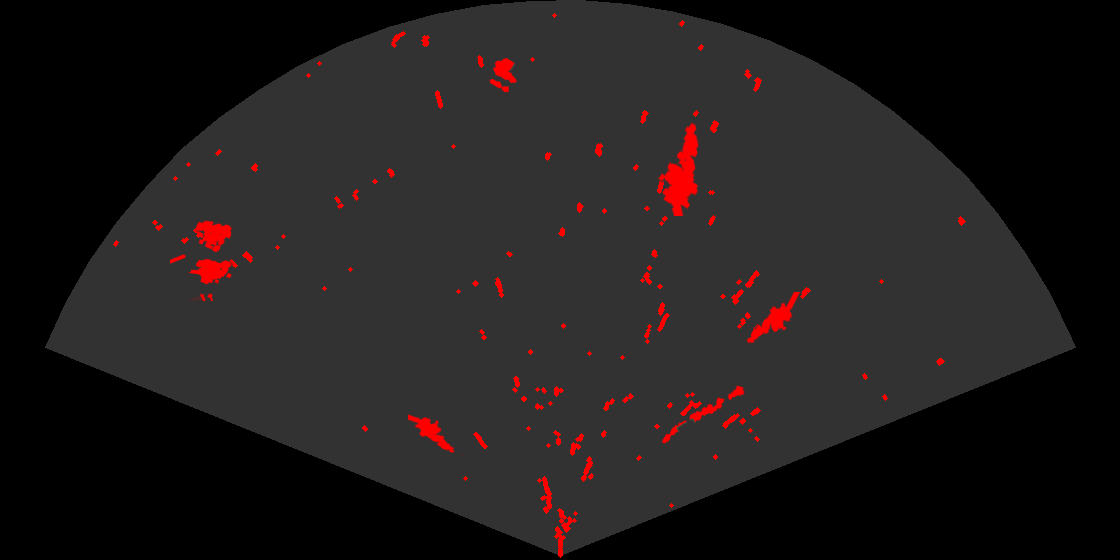ball: (488, 56, 518, 94)
cage: (170, 219, 234, 301)
chain: (661, 384, 746, 445)
frogman: (656, 121, 700, 216), (745, 292, 802, 345), (408, 413, 464, 456)
